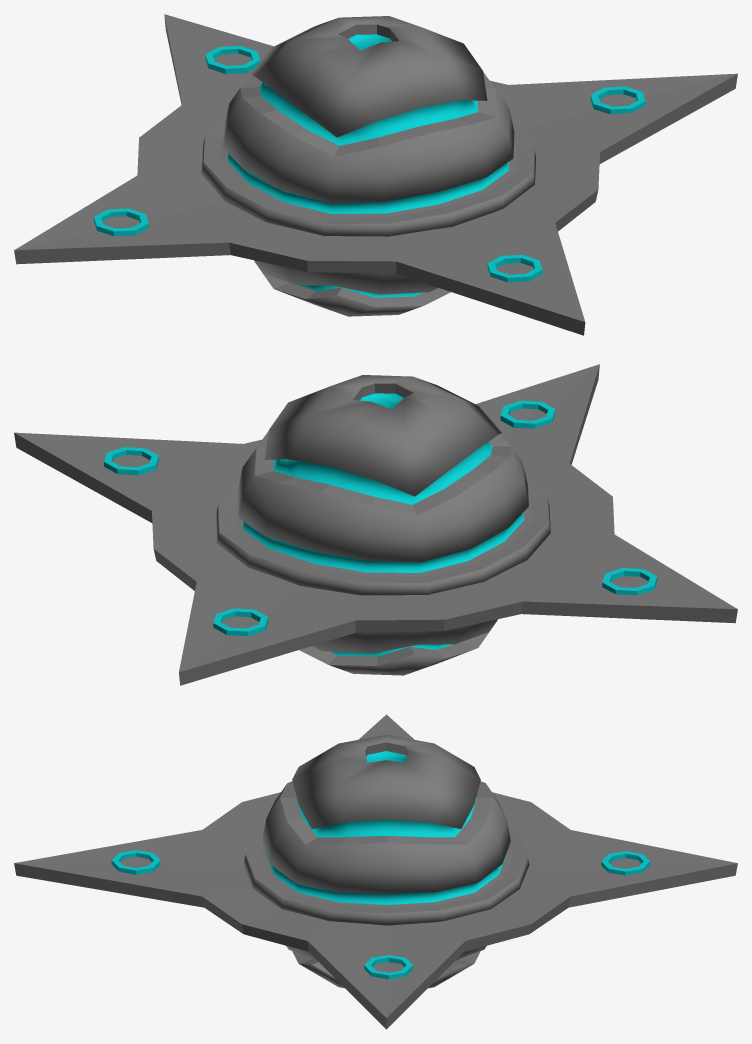
File: Item_Powerup_Futuristic_3.fbx
3 renders of one model, top to bottom at view 1: azimuth 30°, elevation 25°; view 2: azimuth 150°, elevation 25°; view 3: azimuth 270°, elevation 25°, orthographic. The views are drawn at different scales.
Visible parts, largest first — view 1: Item Powerup Futuristic 3; view 2: Item Powerup Futuristic 3; view 3: Item Powerup Futuristic 3.
Boxes of the visible parts, <box> form: Item Powerup Futuristic 3: <box>14,14,737,335</box>; Item Powerup Futuristic 3: <box>14,364,737,685</box>; Item Powerup Futuristic 3: <box>14,714,737,1029</box>.
Size of the model in its own units: 437 by 153 by 440.
